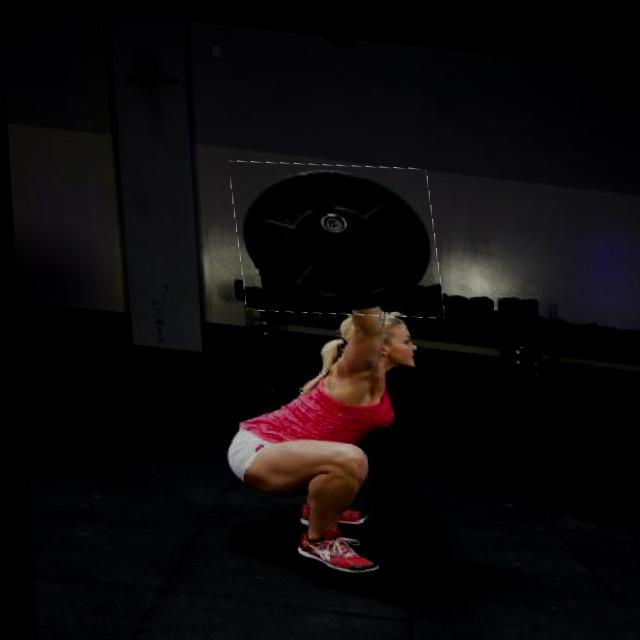barbell: (230, 147, 440, 320)
